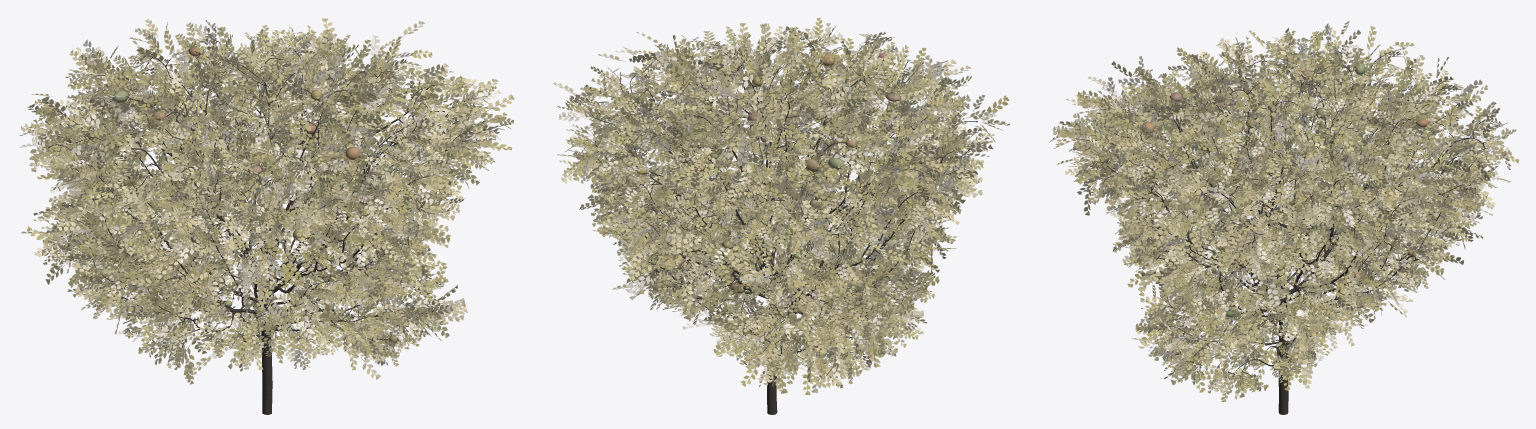
Rendered from tree_03_purple_plum.glb.
3 renders of one model, left to right at view 1: azimuth 30°, elevation 25°; view 2: azimuth 150°, elevation 25°; view 3: azimuth 270°, elevation 25°, orthographic. The views are drawn at different scales.
Parts seen in each view (by area): view 1: tree_03_purple_plum.leaves, tree_03_purple_plum.trunk_branches, tree_03_purple_plum.foliage_volume; view 2: tree_03_purple_plum.leaves, tree_03_purple_plum.trunk_branches, tree_03_purple_plum.foliage_volume; view 3: tree_03_purple_plum.leaves, tree_03_purple_plum.trunk_branches, tree_03_purple_plum.foliage_volume.
Part boxes in pixels (box(x1,y1,x2,y2)): tree_03_purple_plum.leaves: box(19, 18, 514, 384); tree_03_purple_plum.trunk_branches: box(42, 38, 483, 414); tree_03_purple_plum.foliage_volume: box(108, 46, 426, 342); tree_03_purple_plum.leaves: box(553, 18, 1009, 395); tree_03_purple_plum.trunk_branches: box(585, 41, 977, 414); tree_03_purple_plum.foliage_volume: box(636, 53, 934, 343); tree_03_purple_plum.leaves: box(1050, 21, 1519, 402); tree_03_purple_plum.trunk_branches: box(1075, 50, 1489, 414); tree_03_purple_plum.foliage_volume: box(1085, 62, 1476, 363).
Bounding box in the file's own units: 13.7 × 11.04 × 13.92.
Materials: 3 (2 with a texture image).
